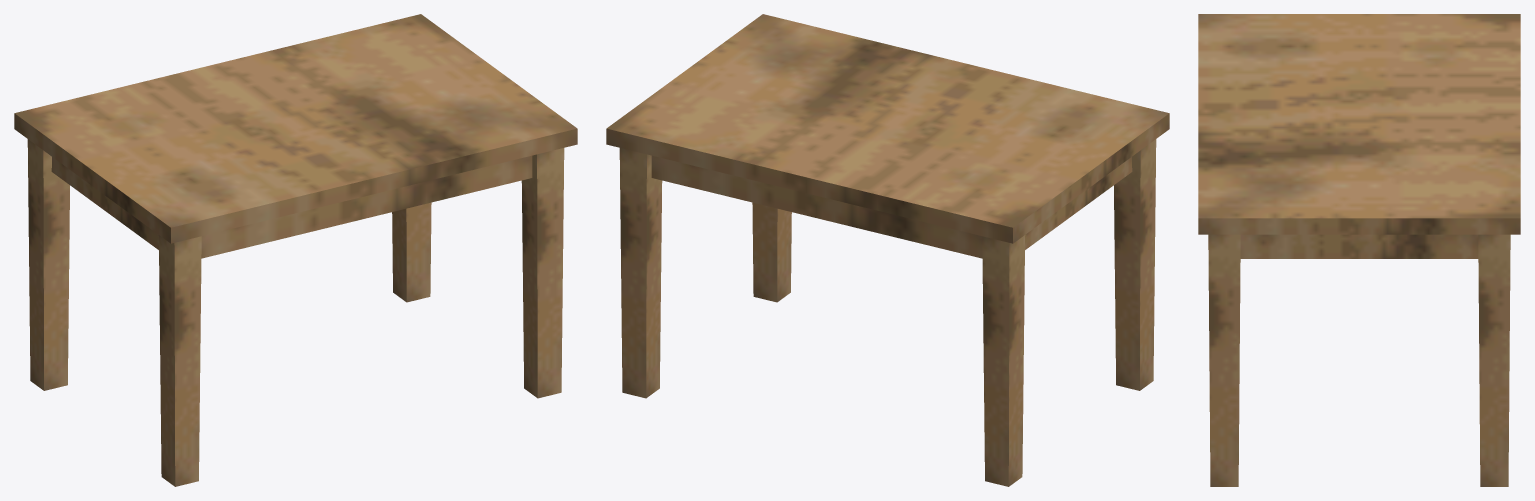
The model's file is table_pine.fbx.
The picture shows the model from 3 angles, left to right: view 1: azimuth 30°, elevation 25°; view 2: azimuth 150°, elevation 25°; view 3: azimuth 270°, elevation 25°; orthographic projection. The views are drawn at different scales.
Parts seen in each view (by area): view 1: table_pine; view 2: table_pine; view 3: table_pine.
Part boxes in pixels (<box>): table_pine: <box>14,14,577,486</box>; table_pine: <box>606,14,1169,486</box>; table_pine: <box>1198,14,1520,486</box>.
Bounding box in the file's own units: 1.2 × 0.75 × 0.8.
Materials: 1 (1 with a texture image).
